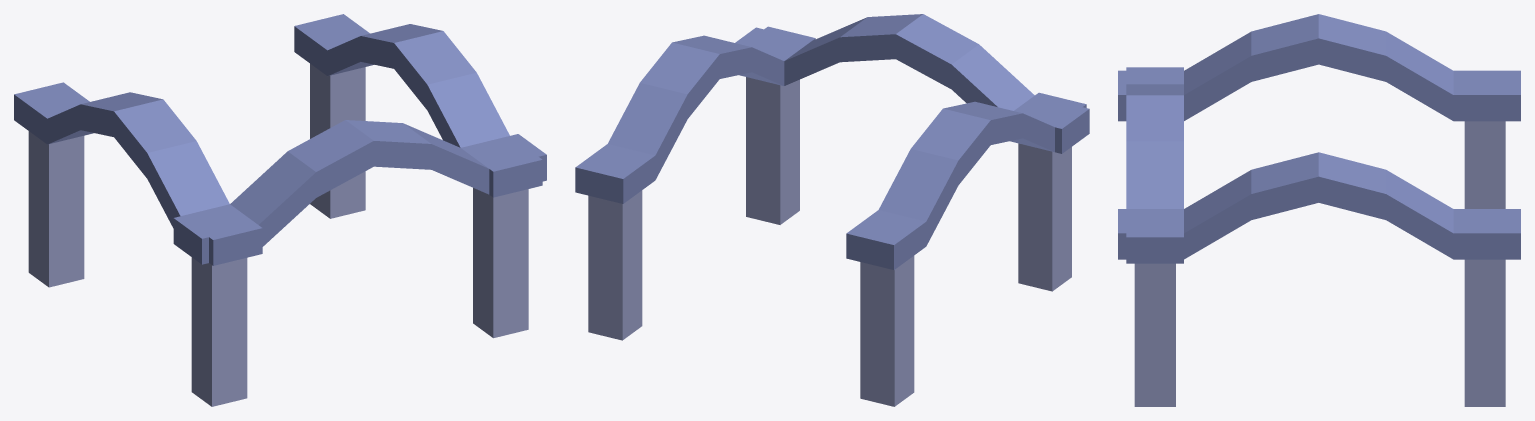
File: bridge_arch_1a_4.fbx
3 views of the same model, side by side, from view 1: azimuth 30°, elevation 25°; view 2: azimuth 150°, elevation 25°; view 3: azimuth 270°, elevation 25° (orthographic). The views are drawn at different scales.
Visible parts, largest first — view 1: bridge_arch_1a_4; view 2: bridge_arch_1a_4; view 3: bridge_arch_1a_4.
Boxes of the visible parts, bbox=[...] form: bridge_arch_1a_4: bbox=[14, 14, 546, 406]; bridge_arch_1a_4: bbox=[575, 14, 1089, 406]; bridge_arch_1a_4: bbox=[1118, 14, 1520, 406].
Bounding box in the file's own units: 9.77 × 6.24 × 9.77.
